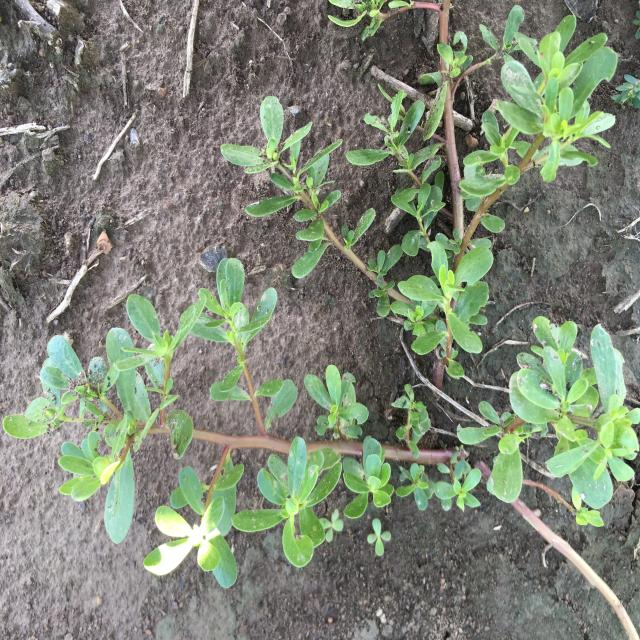Purslane: (2, 258, 482, 589), (221, 0, 618, 377), (457, 316, 640, 528)
